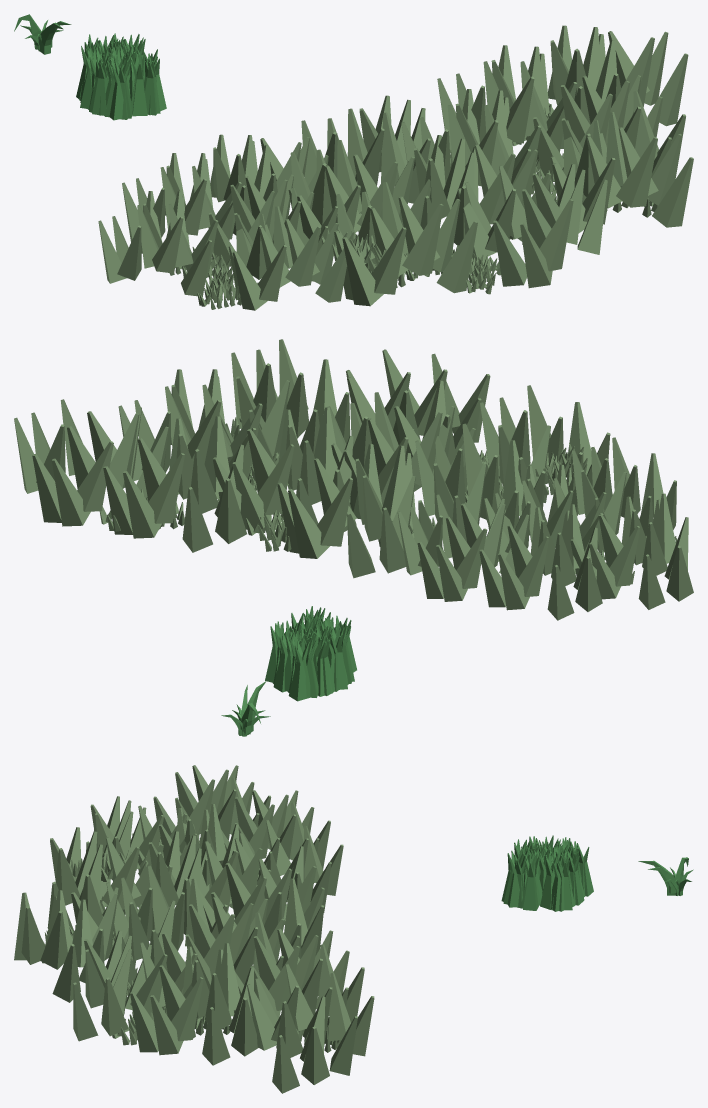
File: grass.fbx
3 renders of one model, top to bottom at view 1: azimuth 30°, elevation 25°; view 2: azimuth 150°, elevation 25°; view 3: azimuth 270°, elevation 25°, orthographic. The views are drawn at different scales.
Parts seen in each view (by area): view 1: Cube.043, Cube.256, Cube; view 2: Cube.043, Cube.256, Cube; view 3: Cube.043, Cube.256, Cube.
Boxes of the visible parts, x1,y1,x2,y2 form: Cube.043: [98, 25, 693, 310]; Cube.256: [76, 33, 166, 120]; Cube: [14, 14, 71, 54]; Cube.043: [14, 339, 693, 620]; Cube.256: [265, 606, 356, 701]; Cube: [221, 681, 270, 736]; Cube.043: [14, 765, 374, 1093]; Cube.256: [501, 835, 593, 911]; Cube: [638, 857, 693, 895].
Size of the model in its own units: 932 by 139 by 984.
